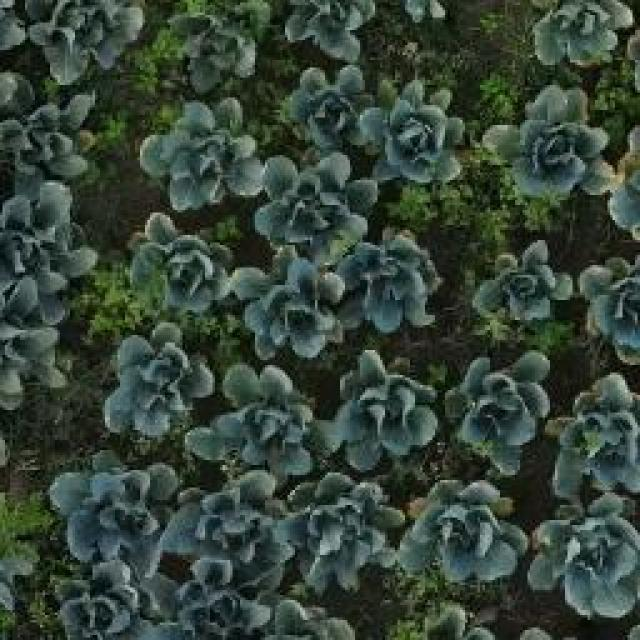cabbage: (206, 361, 330, 480), (137, 95, 262, 213), (398, 478, 528, 589), (484, 84, 610, 197), (530, 498, 640, 620), (284, 475, 401, 587), (332, 217, 442, 335), (48, 450, 167, 559), (447, 351, 552, 474), (172, 472, 290, 581), (0, 177, 96, 307), (336, 348, 439, 466), (262, 153, 376, 257), (362, 76, 466, 184), (129, 210, 236, 314), (232, 248, 339, 351), (111, 322, 206, 436), (555, 370, 640, 496), (144, 558, 270, 640), (21, 0, 144, 78), (0, 90, 103, 180), (468, 238, 574, 324), (279, 62, 376, 150), (50, 562, 148, 640), (527, 0, 635, 70), (577, 255, 640, 360), (279, 0, 382, 62), (182, 11, 260, 88)
